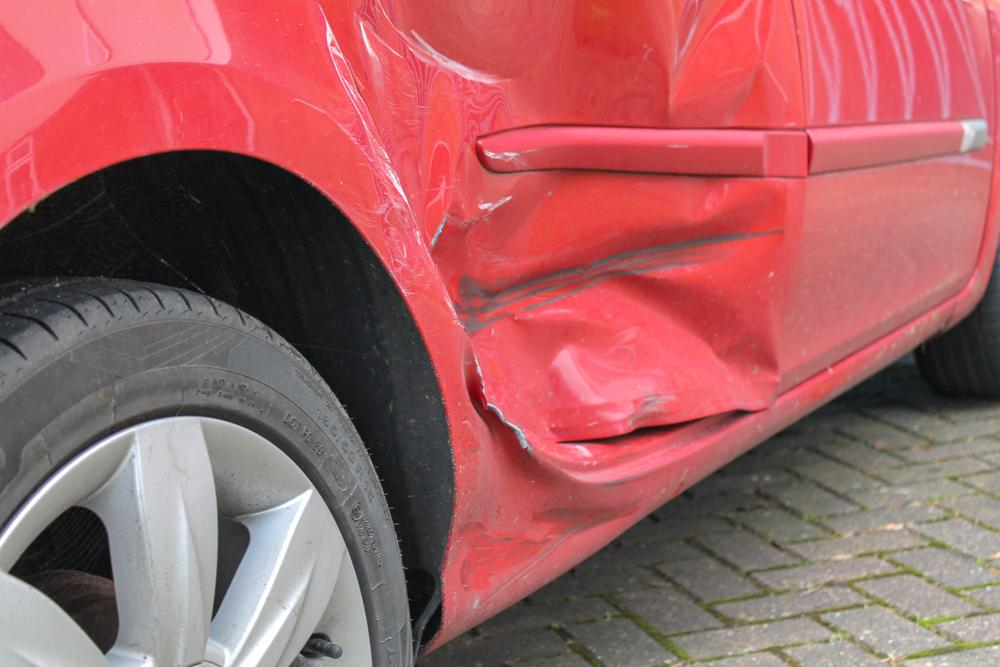dent: (326, 4, 817, 448), (455, 381, 630, 606)
